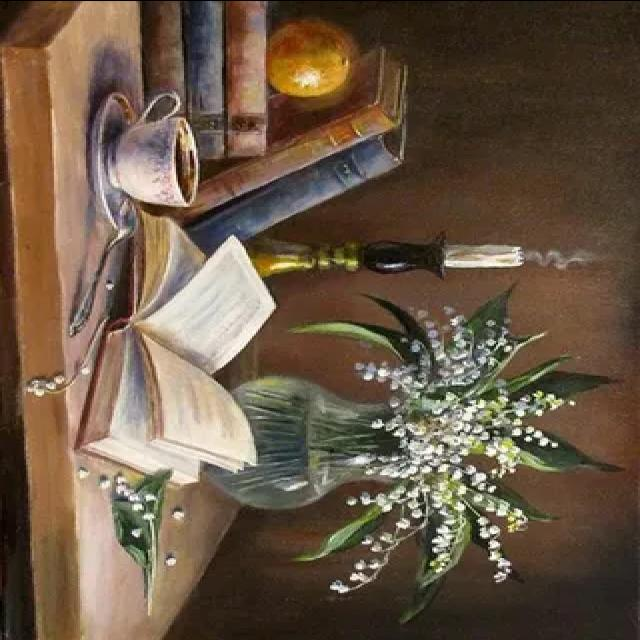book: (66, 196, 284, 496)
